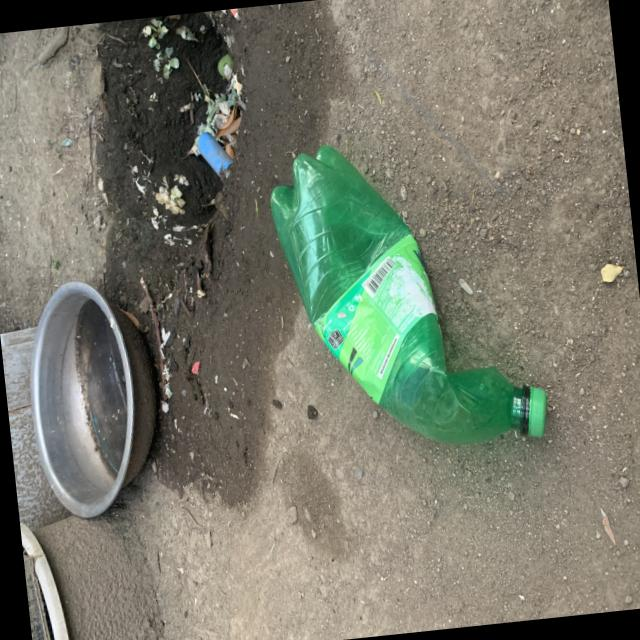Bottle: (270, 144, 546, 443)
